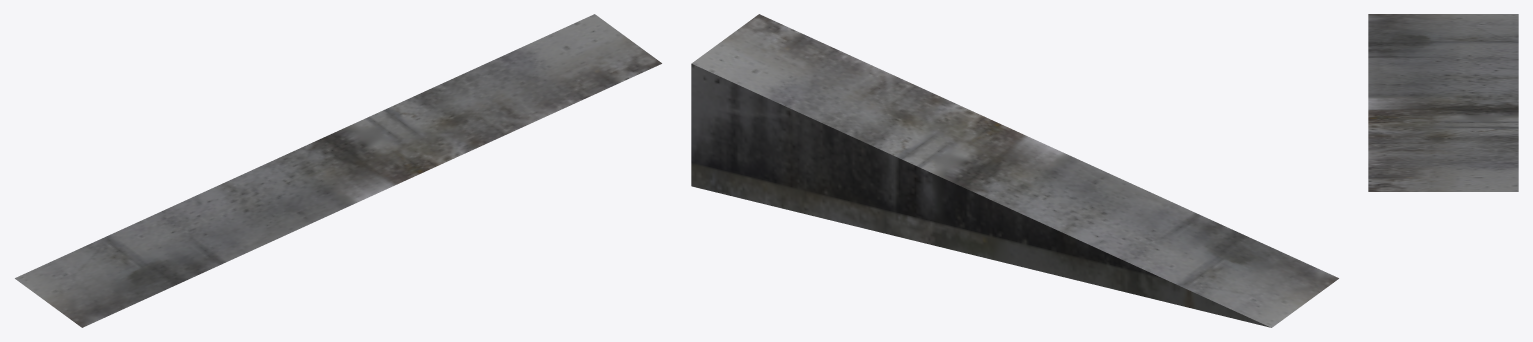
File: tunel_lodni_zed_0.glb
The picture shows the model from 3 angles, left to right: view 1: azimuth 30°, elevation 25°; view 2: azimuth 150°, elevation 25°; view 3: azimuth 270°, elevation 25°; orthographic projection. The views are drawn at different scales.
Visible parts, largest first — view 1: tunel_lodni_zed_0; view 2: tunel_lodni_zed_0; view 3: tunel_lodni_zed_0.
Part boxes in pixels (left/top/right/bottom): tunel_lodni_zed_0: left=15, top=14, right=661, bottom=327; tunel_lodni_zed_0: left=691, top=14, right=1338, bottom=327; tunel_lodni_zed_0: left=1368, top=14, right=1518, bottom=191.
Size of the model in its own units: 4.95 by 1 by 1.
1 material, 1 textured.
